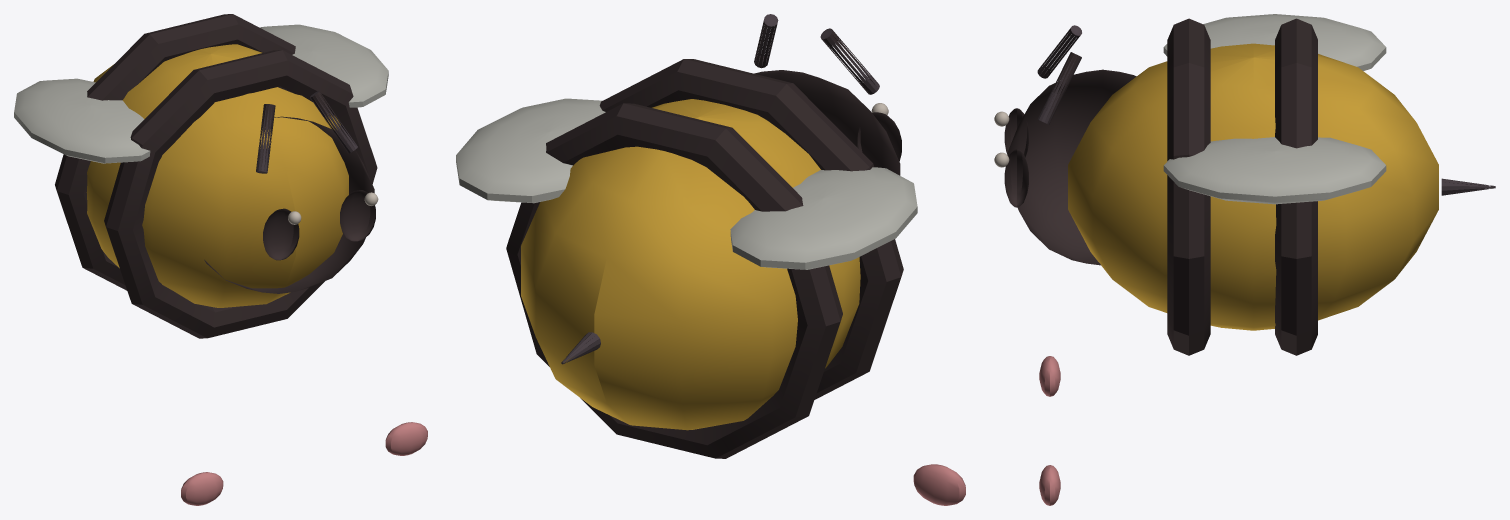
The picture shows the model from 3 angles, left to right: view 1: azimuth 30°, elevation 25°; view 2: azimuth 150°, elevation 25°; view 3: azimuth 270°, elevation 25°; orthographic projection. The views are drawn at different scales.
Parts seen in each view (by area): view 1: pet_p8c4596c7; view 2: pet_p8c4596c7; view 3: pet_p8c4596c7.
Boxes of the visible parts, box(x1,y1,x2,y2) form: pet_p8c4596c7: box(14, 14, 427, 505); pet_p8c4596c7: box(456, 14, 965, 505); pet_p8c4596c7: box(994, 14, 1495, 505).
Size of the model in its own units: 0.3979 by 0.4194 by 0.4659.
